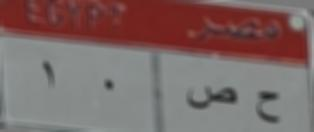0: (34, 53, 68, 94), (99, 70, 121, 99)
7aa: (251, 86, 286, 131)
saad: (174, 80, 245, 114)
